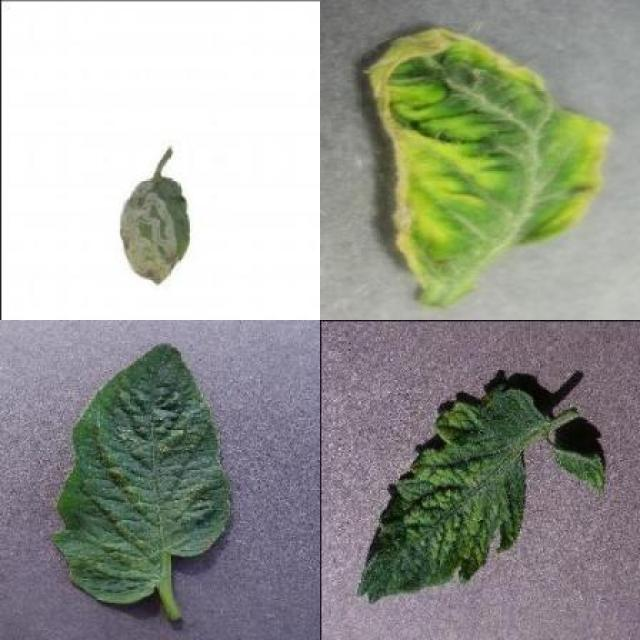Leaf Miner: (116, 175, 188, 285)
Mosaic Virus: (356, 381, 604, 606)
Spider Mites: (55, 342, 232, 605)
Yellow Leaf Curl Virus: (365, 28, 612, 305)
